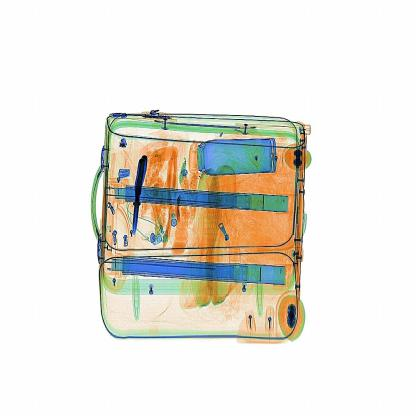gun: (124, 146, 154, 238)
